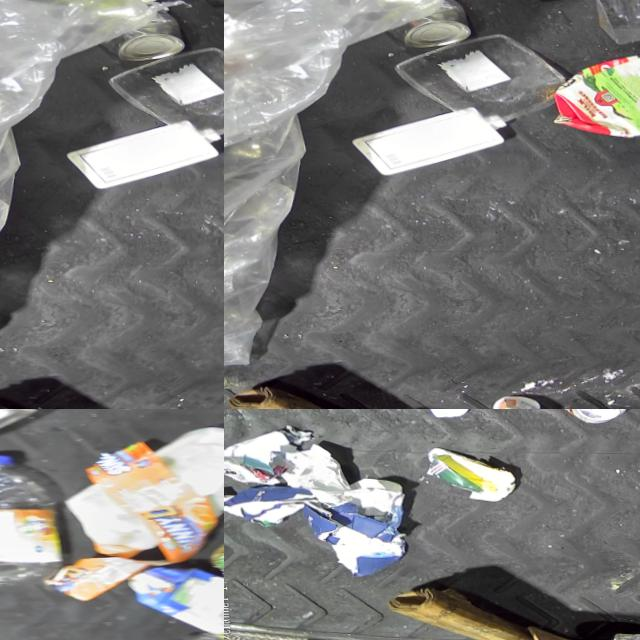can: (92, 2, 182, 62), (376, 0, 466, 47), (194, 535, 224, 590), (538, 409, 620, 422), (595, 630, 640, 640)
milk_jug: (57, 422, 224, 558), (57, 115, 223, 192), (342, 101, 508, 178)
non_white_jug: (533, 45, 640, 137)
plastic_bottle: (0, 450, 73, 585)
